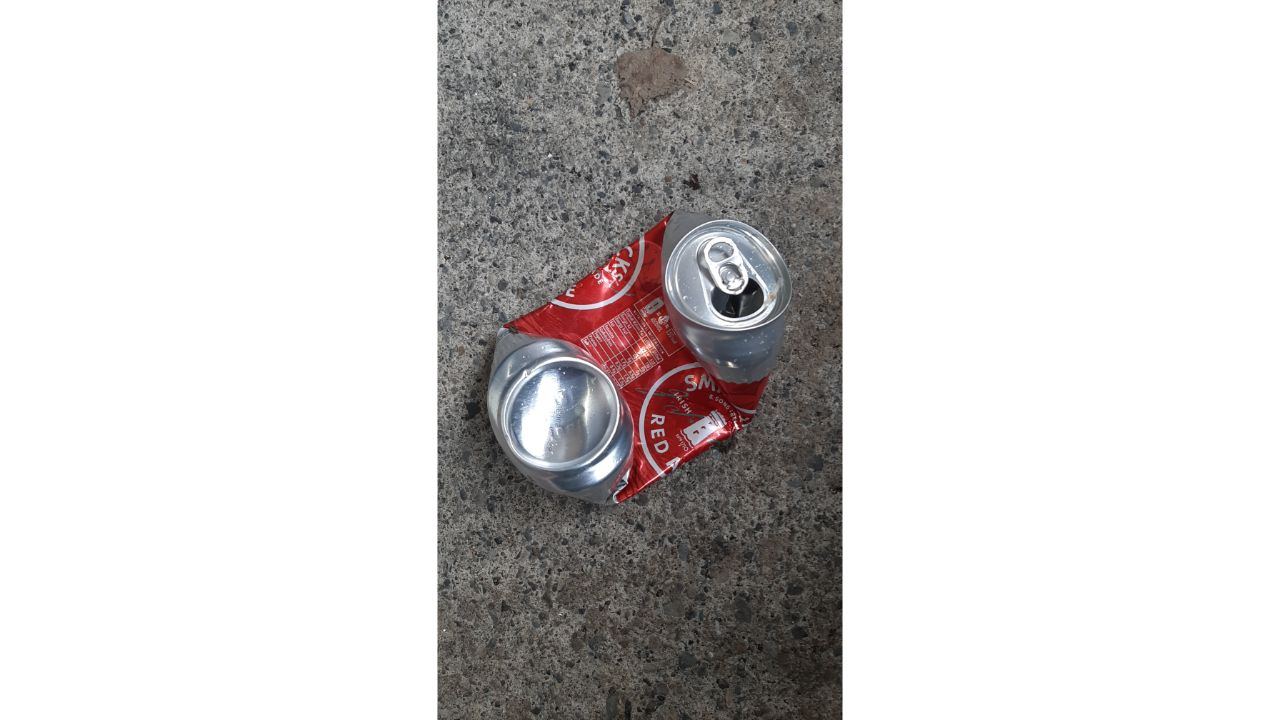Can: (486, 210, 794, 508)
